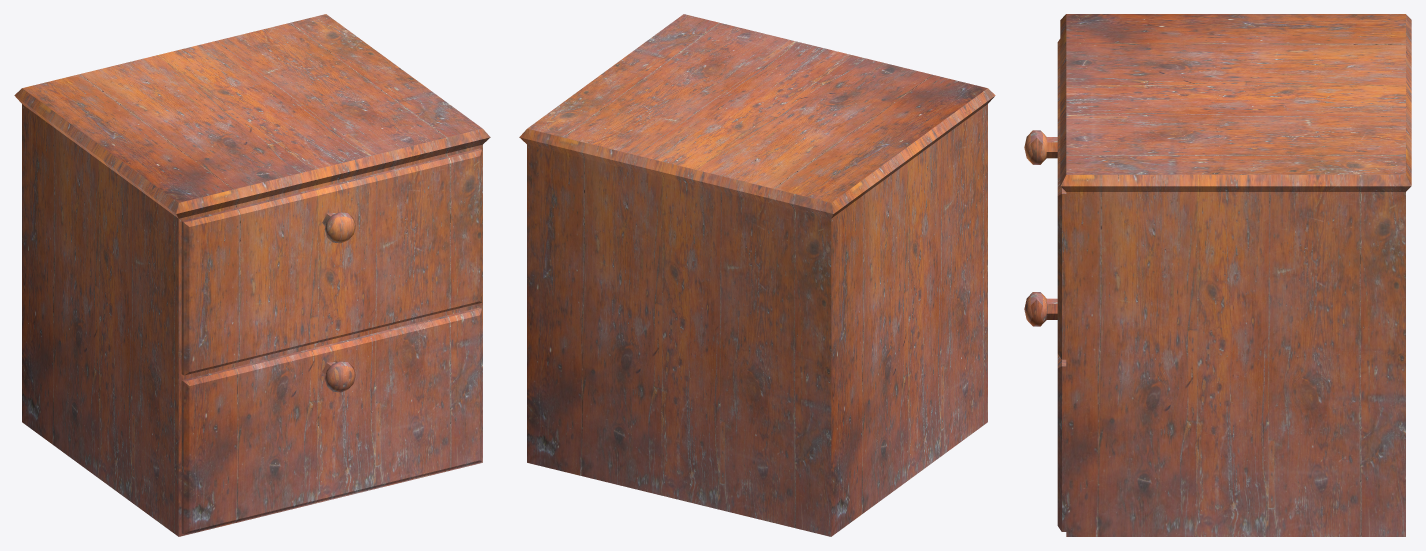
The model's file is cupboard.FBX.
3 views of the same model, side by side, from view 1: azimuth 30°, elevation 25°; view 2: azimuth 150°, elevation 25°; view 3: azimuth 270°, elevation 25° (orthographic). The views are drawn at different scales.
Parts seen in each view (by area): view 1: Cube_004_Cube_007; view 2: Cube_004_Cube_007; view 3: Cube_004_Cube_007.
Boxes of the visible parts, x1,y1,x2,y2 form: Cube_004_Cube_007: (14, 14, 490, 536); Cube_004_Cube_007: (519, 14, 995, 536); Cube_004_Cube_007: (1024, 14, 1411, 536).
Size of the model in its own units: 1.4 by 1.42 by 1.38.
Materials: 1 (1 with a texture image).
